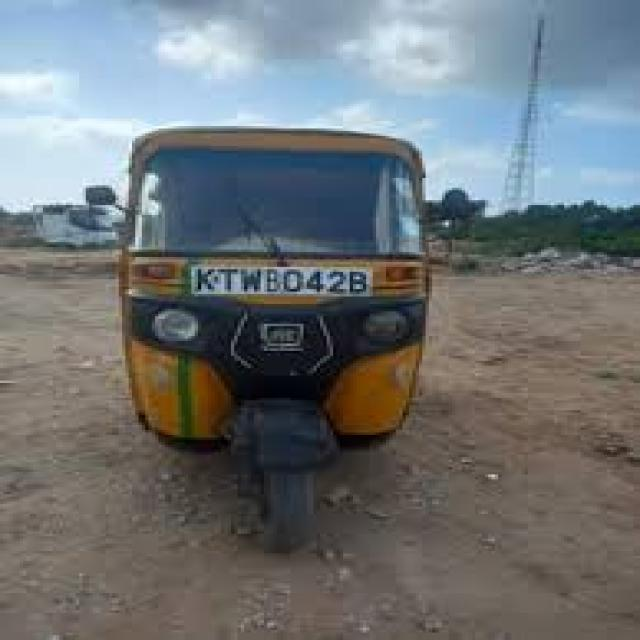tuktuk: (31, 64, 503, 568)
